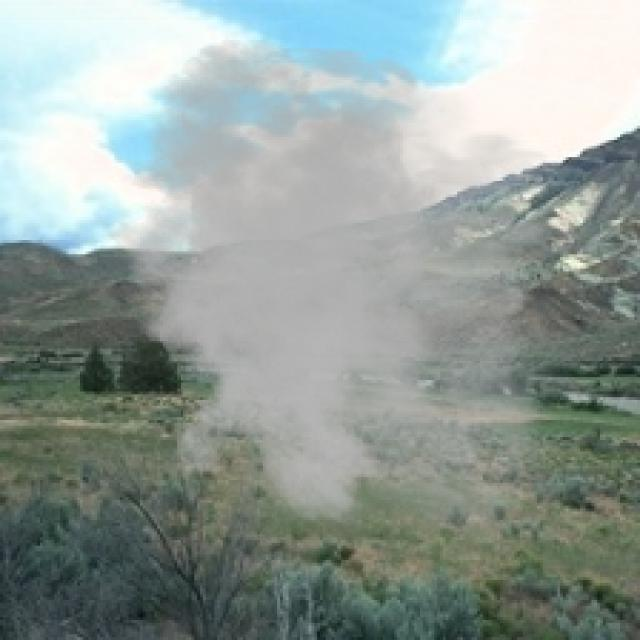smoke: (91, 37, 608, 572)
